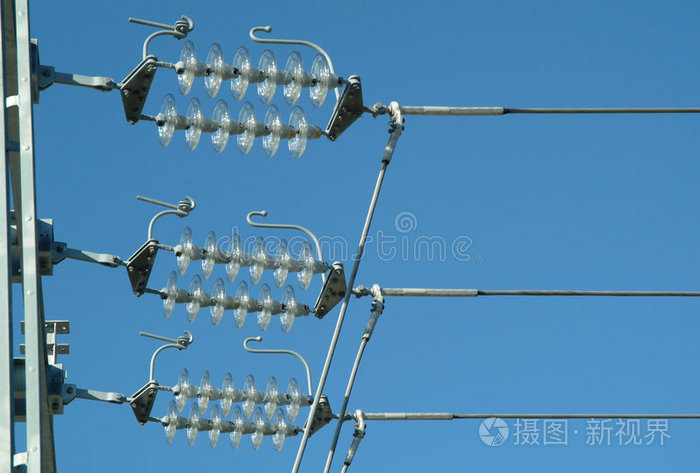insulator: (169, 36, 333, 105), (154, 90, 311, 159), (158, 266, 300, 333), (169, 230, 316, 289), (170, 364, 305, 418), (161, 399, 292, 454)
